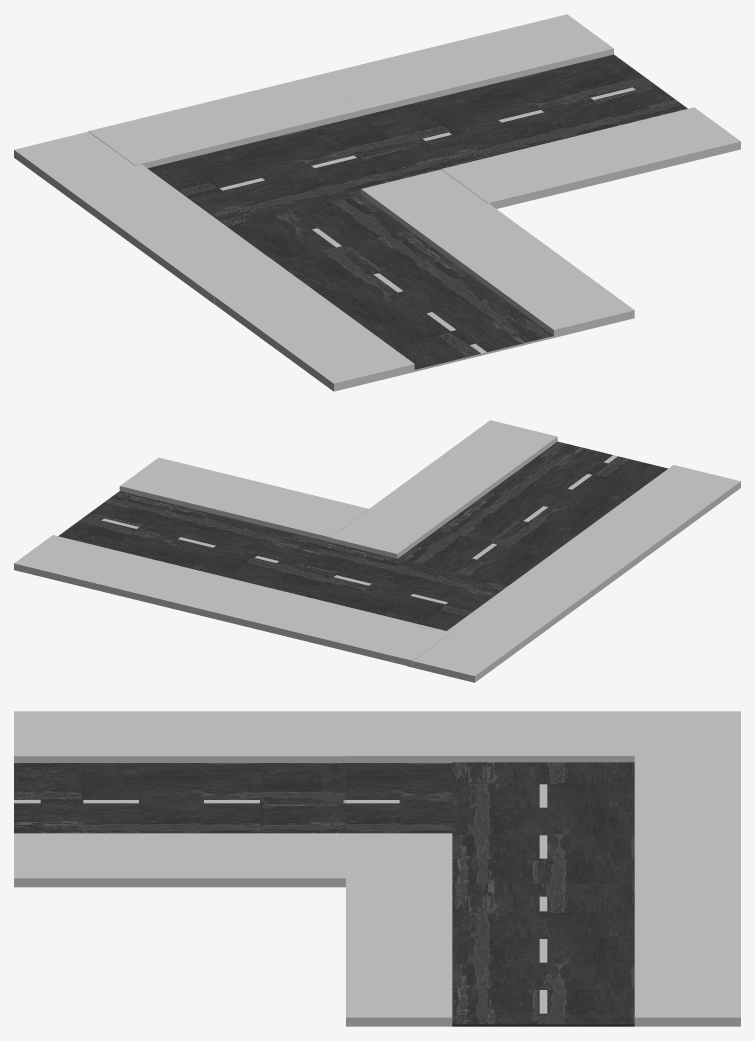
File: YanYolLast.fbx
3 renders of one model, top to bottom at view 1: azimuth 30°, elevation 25°; view 2: azimuth 150°, elevation 25°; view 3: azimuth 270°, elevation 25°, orthographic. The views are drawn at different scales.
Visible parts, largest first — view 1: Plane; view 2: Plane; view 3: Plane.
Boxes of the visible parts, x1=… form: Plane: x1=14, y1=14, x2=740, y2=391; Plane: x1=14, y1=420, x2=740, y2=682; Plane: x1=14, y1=711, x2=740, y2=1026.
Size of the model in its own units: 2188 by 31.77 by 2190.
